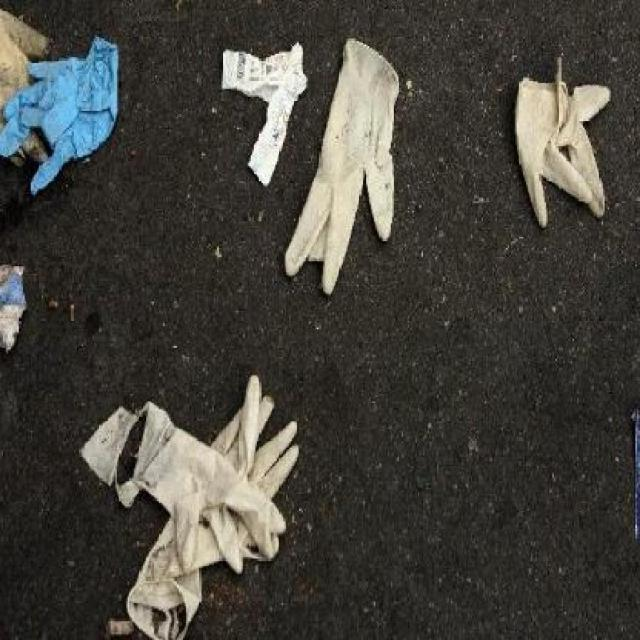gloved_hand: (79, 378, 304, 638), (280, 19, 422, 304), (1, 24, 127, 202), (498, 66, 614, 248)
